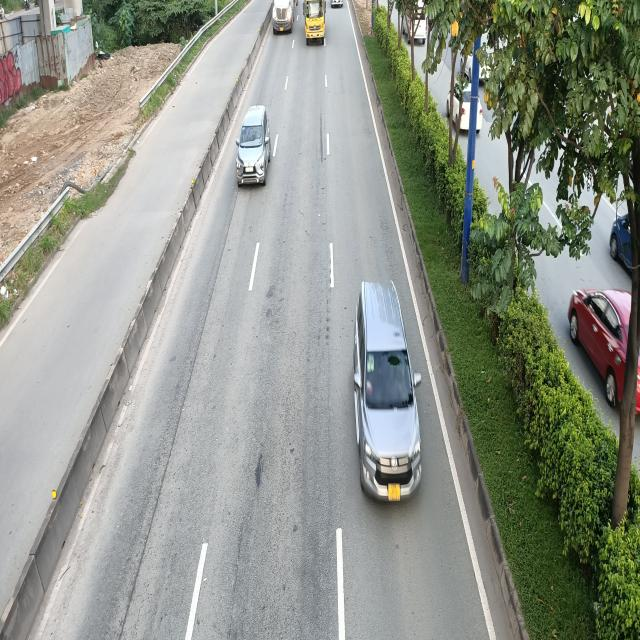car: (349, 278, 420, 500), (238, 106, 274, 190)
container: (271, 0, 297, 33)
truck: (302, 0, 327, 45)
